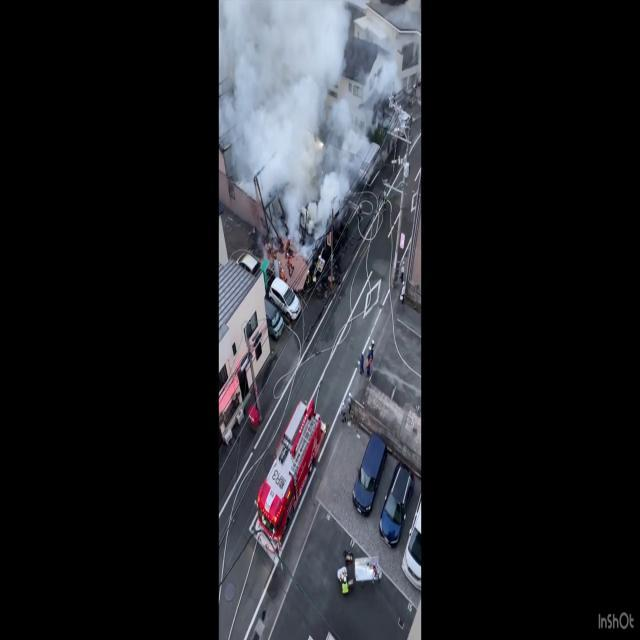Smoke: (219, 0, 372, 205)
